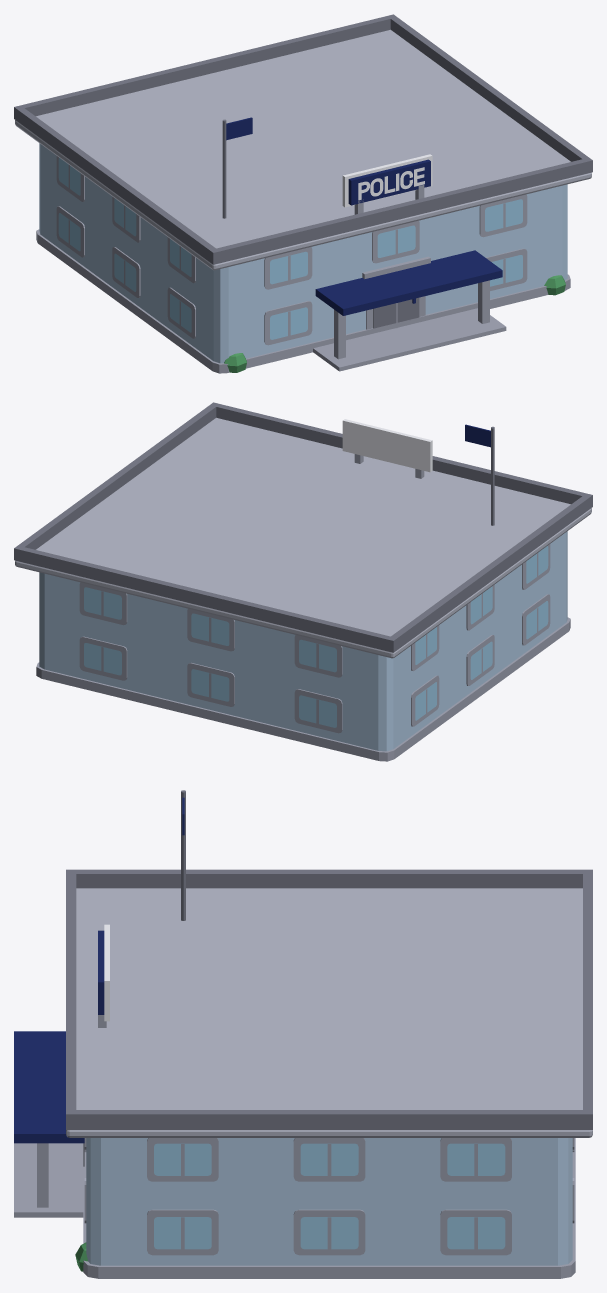
The model's file is police-station-2x2.glb.
The picture shows the model from 3 angles, top to bottom: view 1: azimuth 30°, elevation 25°; view 2: azimuth 150°, elevation 25°; view 3: azimuth 270°, elevation 25°; orthographic projection. The views are drawn at different scales.
Parts seen in each view (by area): view 1: police-station-2x2; view 2: police-station-2x2; view 3: police-station-2x2.
Boxes of the visible parts, <box> form: police-station-2x2: <box>14,14,592,373</box>; police-station-2x2: <box>14,402,592,761</box>; police-station-2x2: <box>14,790,592,1278</box>.
Bounding box in the file's own units: 2 × 1.09 × 2.
Materials: 1 (1 with a texture image).
